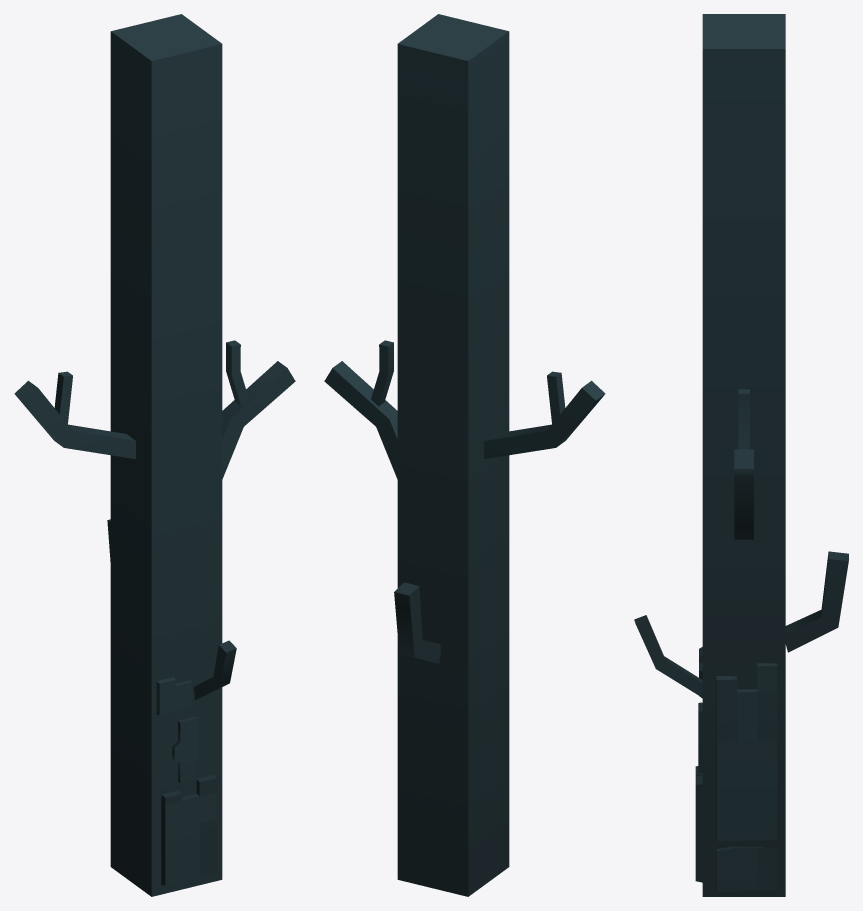
The model's file is big-tree.fbx.
3 views of the same model, side by side, from view 1: azimuth 30°, elevation 25°; view 2: azimuth 150°, elevation 25°; view 3: azimuth 270°, elevation 25° (orthographic).
Visible parts, largest first — view 1: big-tree; view 2: big-tree; view 3: big-tree.
Part boxes in pixels (x1,y1,x2,y2): big-tree: [14, 14, 295, 896]; big-tree: [324, 14, 605, 896]; big-tree: [634, 14, 848, 896].
Bounding box in the file's own units: 5.02 × 14.75 × 3.38.
